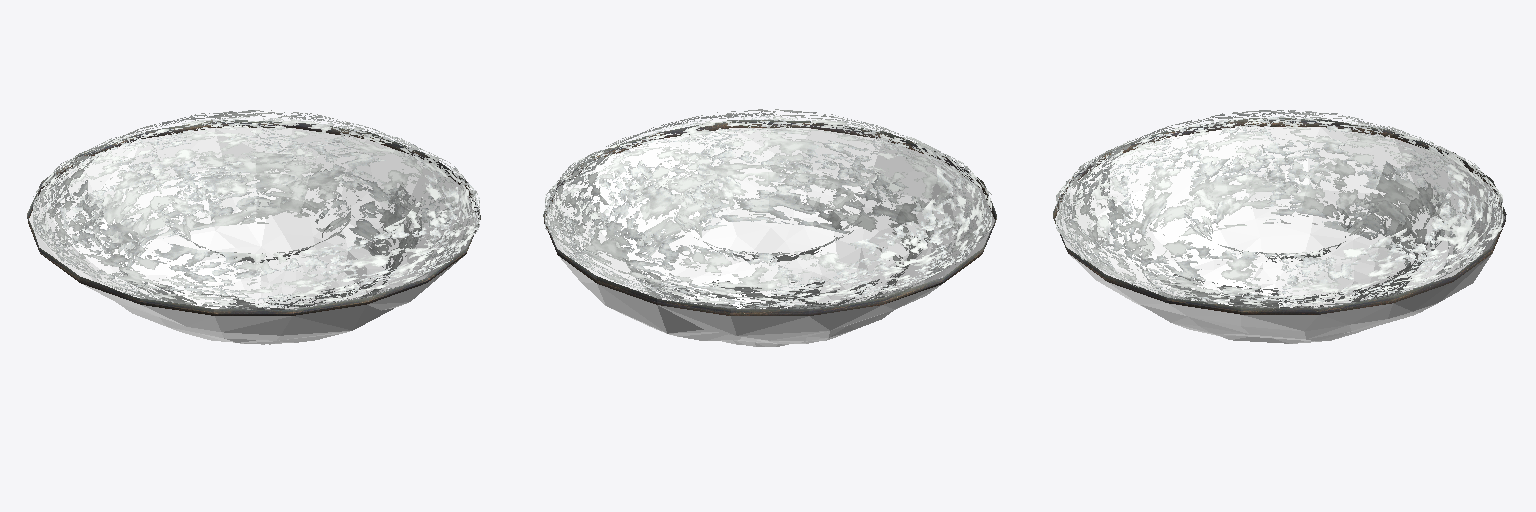
The picture shows the model from 3 angles: view 1: azimuth 30°, elevation 25°; view 2: azimuth 150°, elevation 25°; view 3: azimuth 270°, elevation 25°; orthographic projection.
Visible parts, largest first — view 1: mesh2, mesh1, mesh0; view 2: mesh2, mesh1, mesh0; view 3: mesh2, mesh1, mesh0.
Part boxes in pixels (left/top/right/bottom): mesh2: left=33, top=110, right=479, bottom=309; mesh1: left=29, top=128, right=478, bottom=344; mesh0: left=27, top=120, right=480, bottom=315; mesh2: left=545, top=109, right=991, bottom=309; mesh1: left=546, top=128, right=994, bottom=346; mesh0: left=543, top=120, right=996, bottom=315; mesh2: left=1056, top=110, right=1502, bottom=308; mesh1: left=1055, top=127, right=1504, bottom=343; mesh0: left=1053, top=118, right=1506, bottom=314.
Bounding box in the file's own units: 4038 × 1464 × 4048.
3 materials, 2 textured.